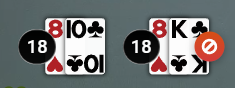10: (64, 17, 88, 41)
8: (42, 17, 66, 41), (146, 17, 170, 41)
k: (168, 16, 190, 41)
